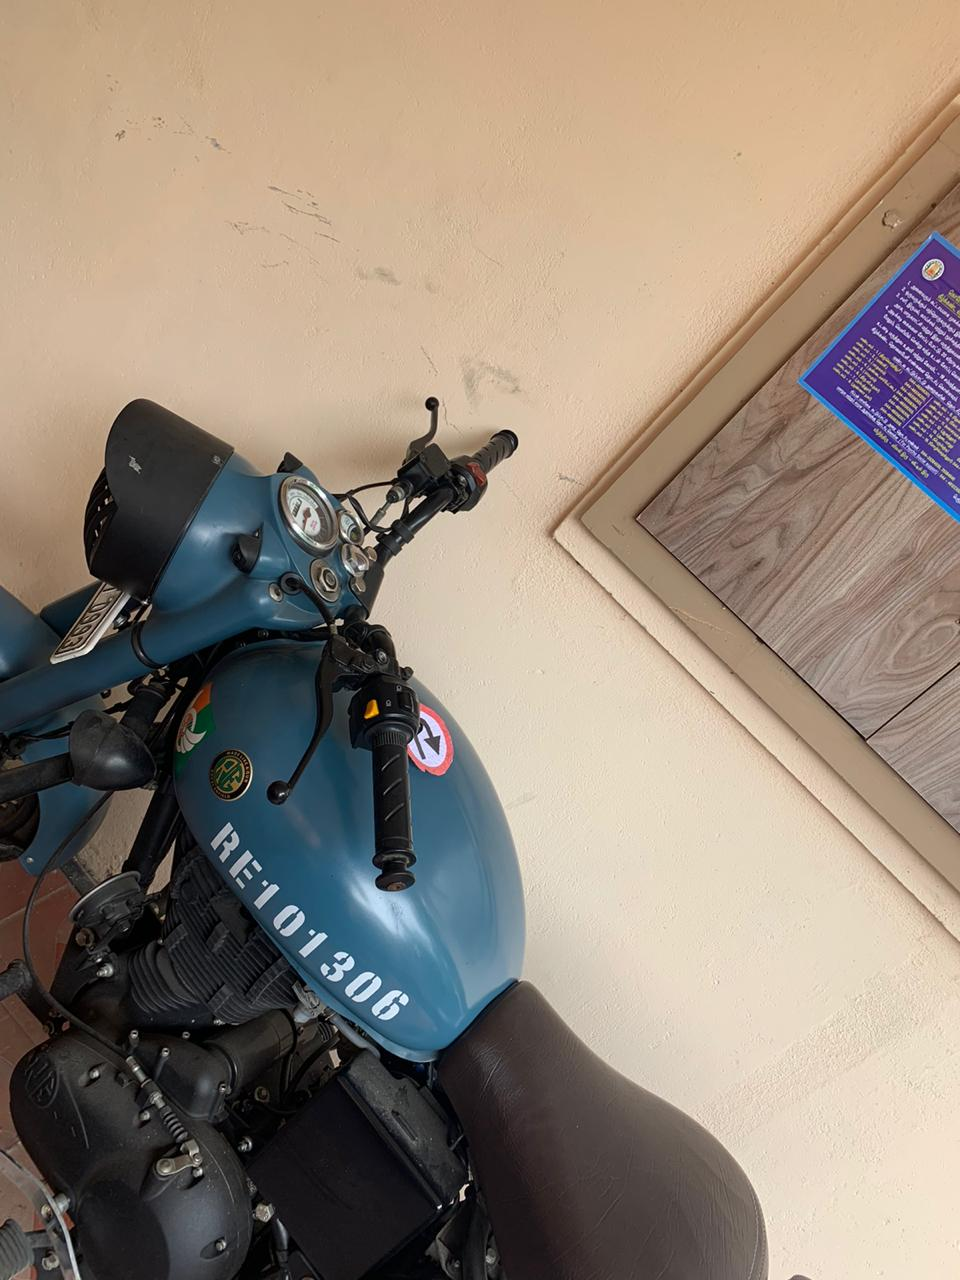U-TURN: (363, 694, 501, 779)
